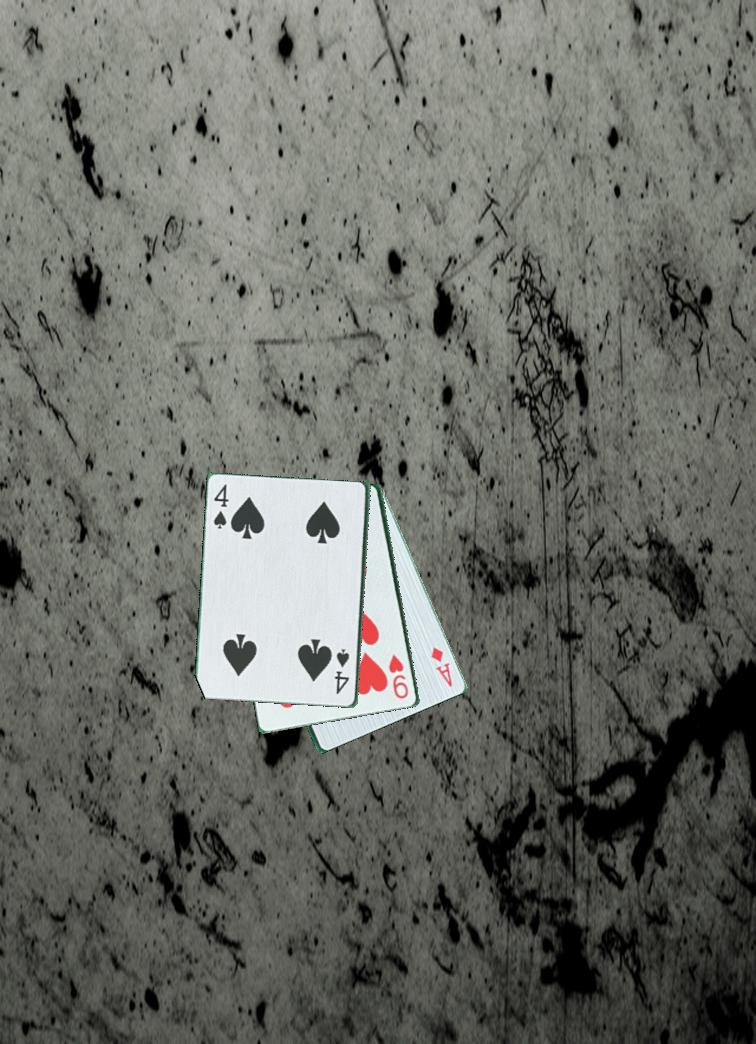4s: (210, 481, 232, 536), (333, 646, 353, 697)
9h: (386, 651, 412, 702)
ad: (428, 643, 456, 690)
